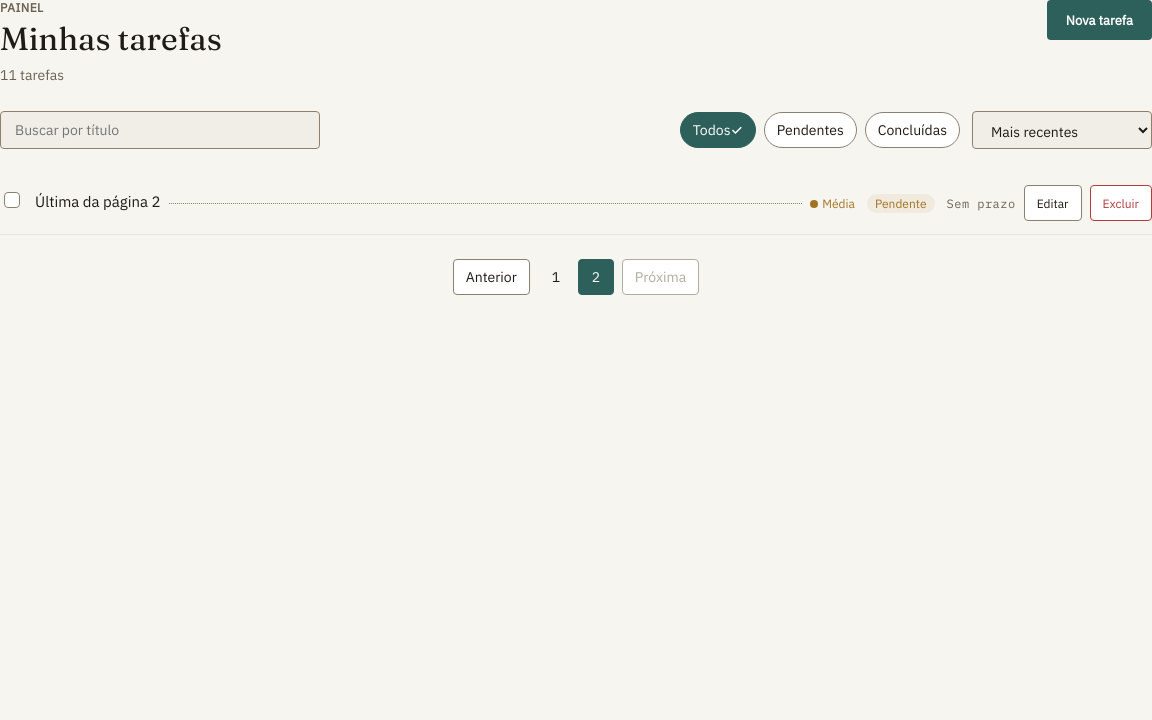
TasksDashboardPage — CRUD › deleting the last task on page 2 normalizes back to a valid page
Click the button named "Excluir \"Última da página 2\"" at (1121, 203), box [1090,185,1151,221]
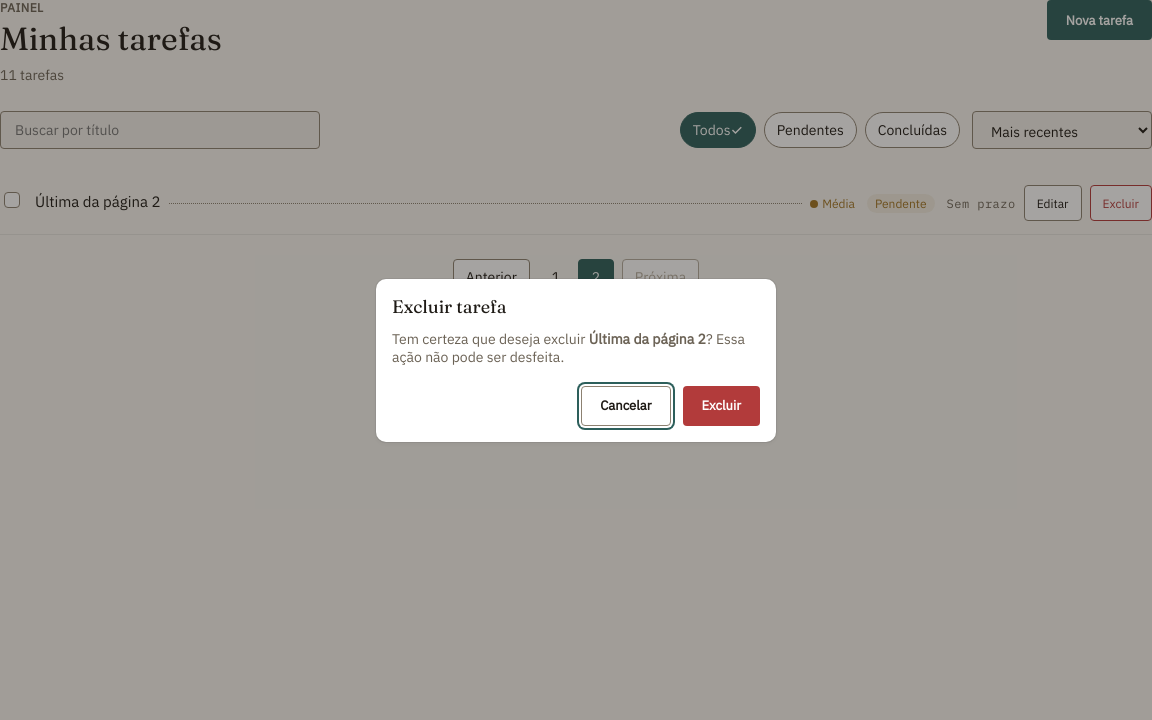
Click the button "Excluir" at (721, 406), box [682,386,760,426]
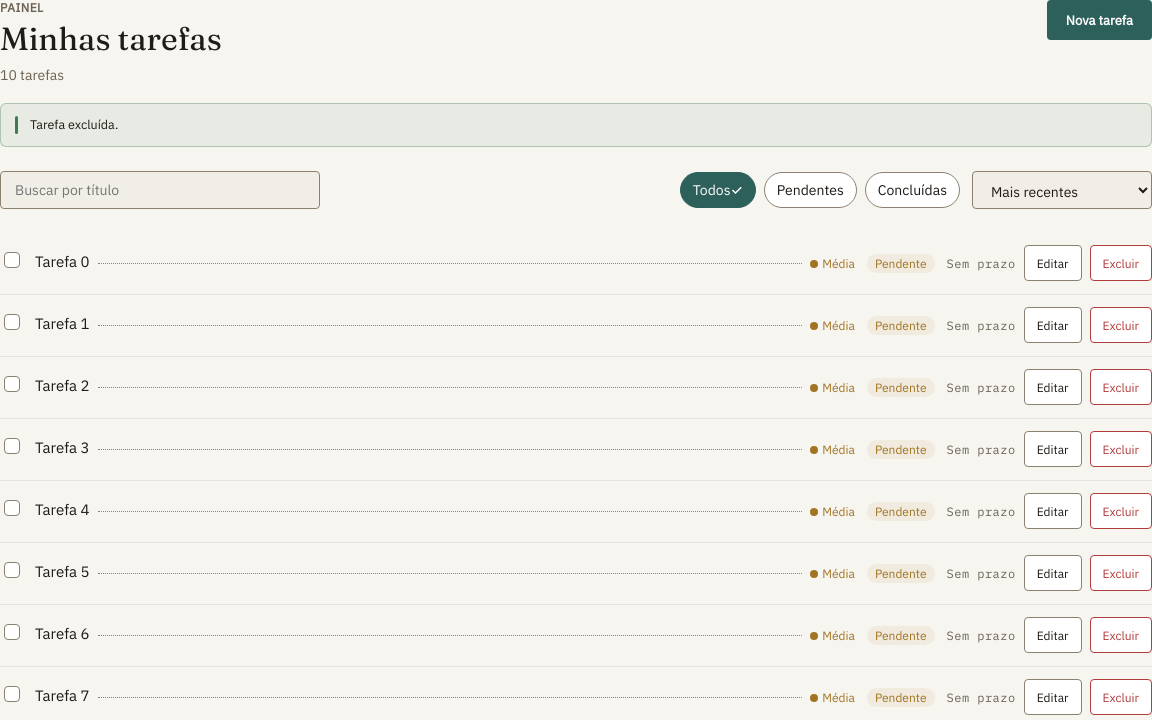
Result: the text "Tarefa 0" is shown at [35,252,90,270]
